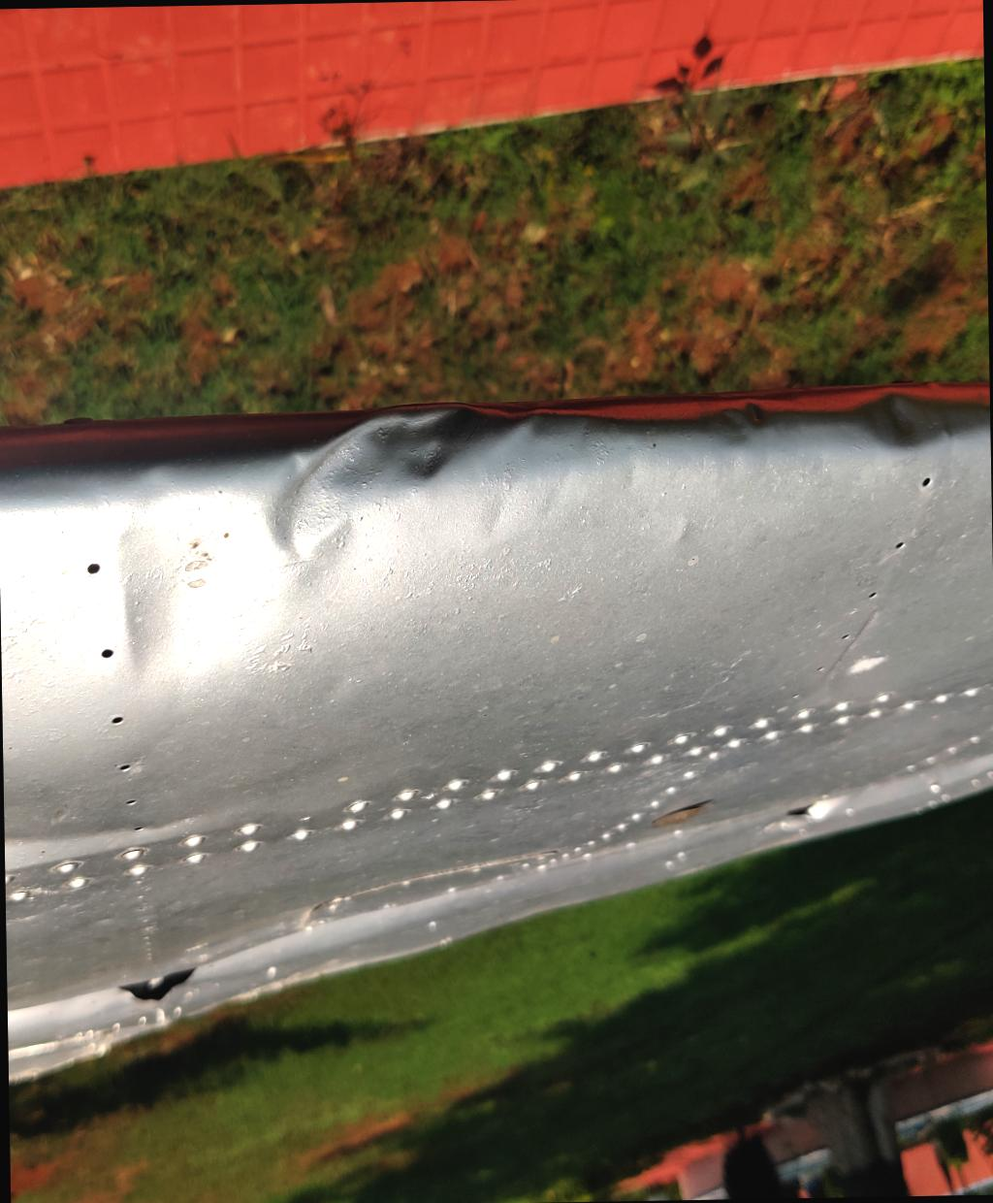dent: (257, 353, 554, 604), (3, 751, 219, 911), (838, 351, 954, 486)
